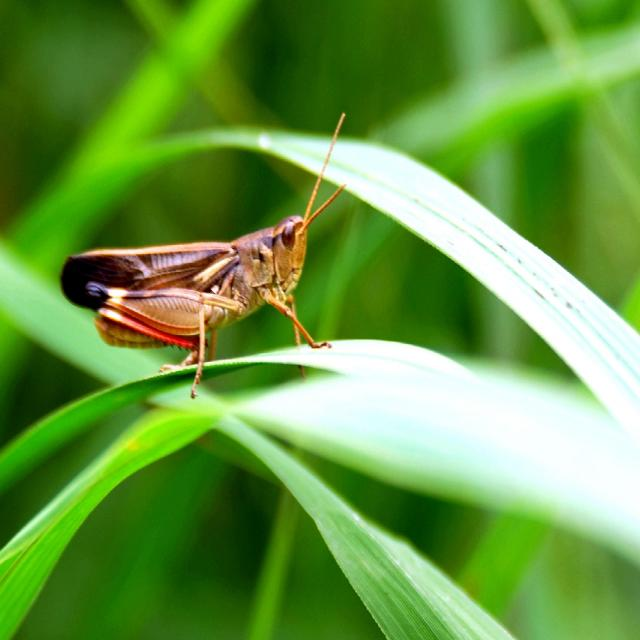ZhaMeng: (50, 117, 344, 381)
